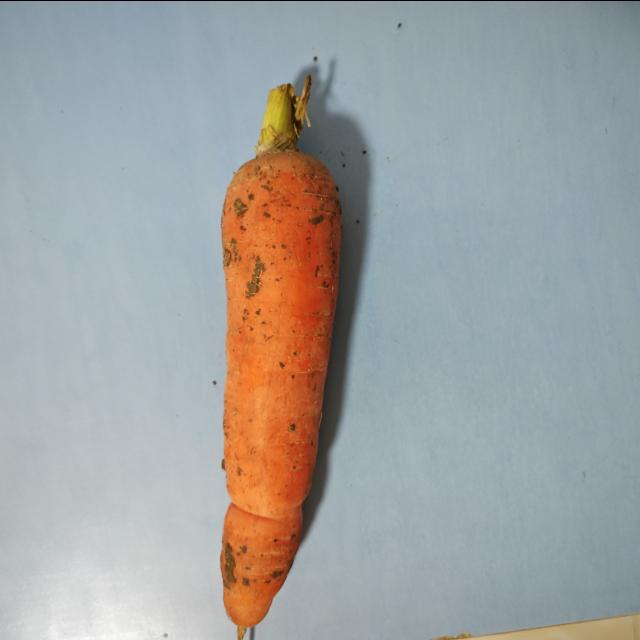-Kitchen waste - carrot-: (215, 81, 349, 621)
